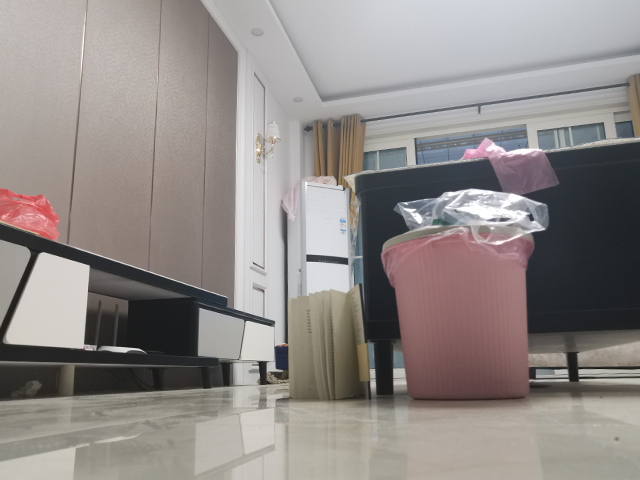book: (285, 282, 372, 404)
cabinet: (1, 220, 277, 401)
table: (340, 134, 640, 398)
trashcan: (378, 221, 537, 403)
